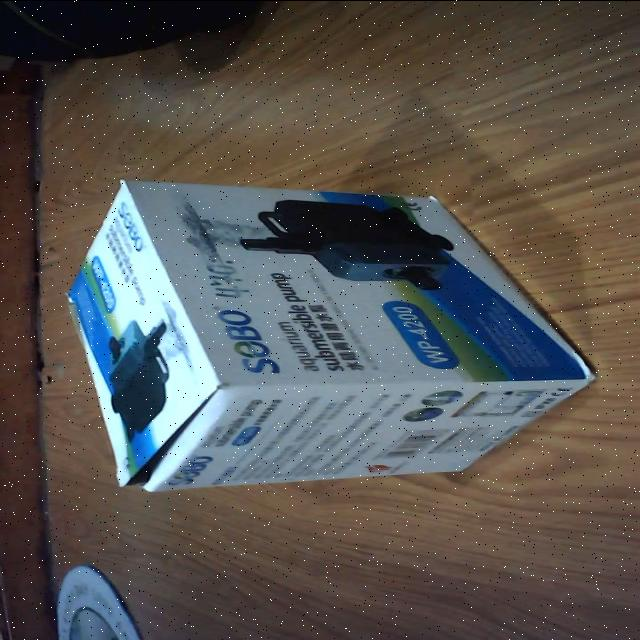SOBO_WP_4200: (53, 174, 606, 495)
